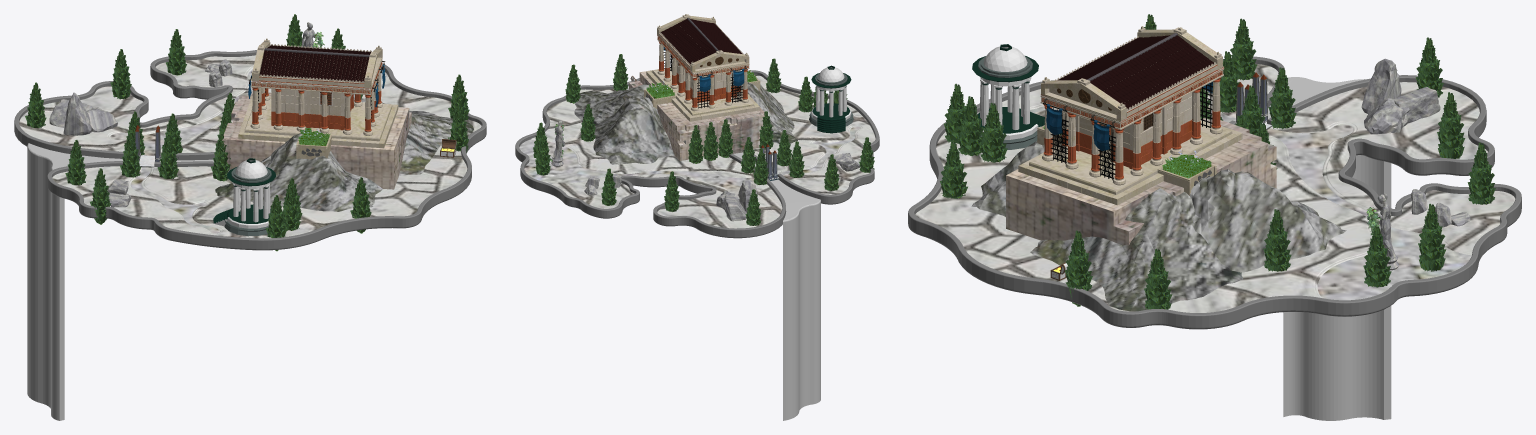
File: greek_island.gltf
3 renders of one model, left to right at view 1: azimuth 30°, elevation 25°; view 2: azimuth 150°, elevation 25°; view 3: azimuth 270°, elevation 25°, orthographic. The views are drawn at different scales.
Visible parts, largest first — view 1: G-__555717, house, water, mountain, stone, G-Cylinder725760, G-Cylinder816517, G-__555735, G-AM113_037_Pinus.012, G-AM113_037_Pinus.005, G-Cylinder250095, G-AM113_037_Pinus.016 (+12 smaller); view 2: G-__555717, water, house, mountain, stone, G-Cylinder725760, G-Cylinder816517, G-AM113_037_Pinus.012, G-AM113_037_Pinus.011, G-__555762, G-AM113_037_Pinus.006, G-AM113_037_Pinus.009 (+17 smaller); view 3: G-__555717, house, mountain, water, stone, G-Cylinder725760, G-__555735, G-AM113_037_Pinus.011, G-AM113_037_Pinus.012, G-Cylinder816517, G-AM113_037_Pinus.013, G-AM113_037_Pinus.016 (+16 smaller).
Part boxes in pixels (x1,y1,x2,y2): G-__555717: (14, 50, 486, 250); house: (238, 38, 398, 159); water: (27, 143, 213, 420); mountain: (215, 94, 473, 211); stone: (222, 91, 411, 189); G-Cylinder725760: (214, 160, 270, 228); G-Cylinder816517: (213, 158, 275, 223); G-__555735: (63, 92, 91, 135); G-AM113_037_Pinus.012: (110, 49, 131, 99); G-AM113_037_Pinus.005: (90, 168, 111, 224); G-Cylinder250095: (224, 167, 271, 236); G-AM113_037_Pinus.016: (165, 29, 186, 75); G-__555717: (515, 70, 879, 238); water: (733, 152, 820, 420); house: (644, 14, 760, 121); mountain: (574, 82, 797, 164); stone: (629, 70, 764, 160); G-Cylinder725760: (811, 67, 851, 120); G-Cylinder816517: (811, 65, 851, 133); G-AM113_037_Pinus.012: (664, 171, 679, 211); G-AM113_037_Pinus.011: (535, 135, 550, 175); G-__555762: (723, 195, 746, 221); G-AM113_037_Pinus.006: (688, 125, 703, 163); G-AM113_037_Pinus.009: (703, 122, 718, 160); G-__555717: (908, 56, 1521, 329); house: (1018, 26, 1242, 205); mountain: (971, 140, 1346, 311); water: (1267, 77, 1391, 420); stone: (1006, 118, 1276, 245); G-Cylinder725760: (977, 46, 1041, 139); G-__555735: (1361, 58, 1401, 113); G-AM113_037_Pinus.011: (1418, 203, 1446, 271); G-AM113_037_Pinus.012: (1437, 92, 1465, 158); G-Cylinder816517: (972, 44, 1044, 133); G-AM113_037_Pinus.013: (1263, 209, 1291, 271); G-AM113_037_Pinus.016: (1467, 142, 1495, 204).
Size of the model in its own units: 58.88 by 52.3 by 58.86.
